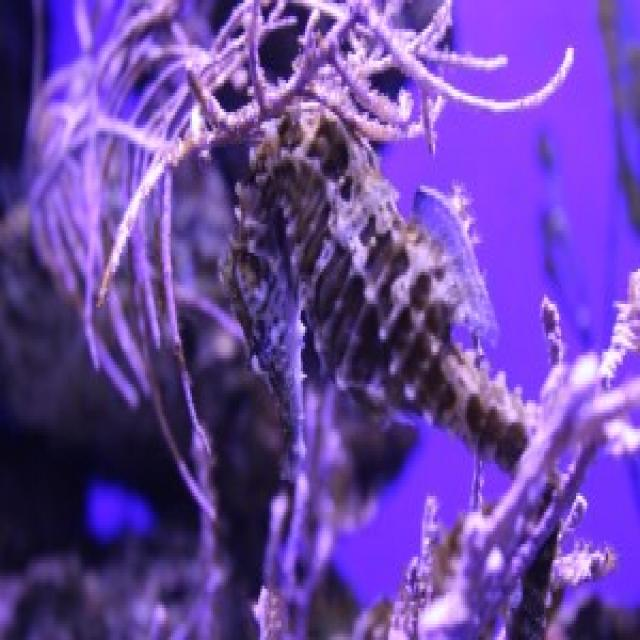Seahorse: (216, 94, 529, 472)
